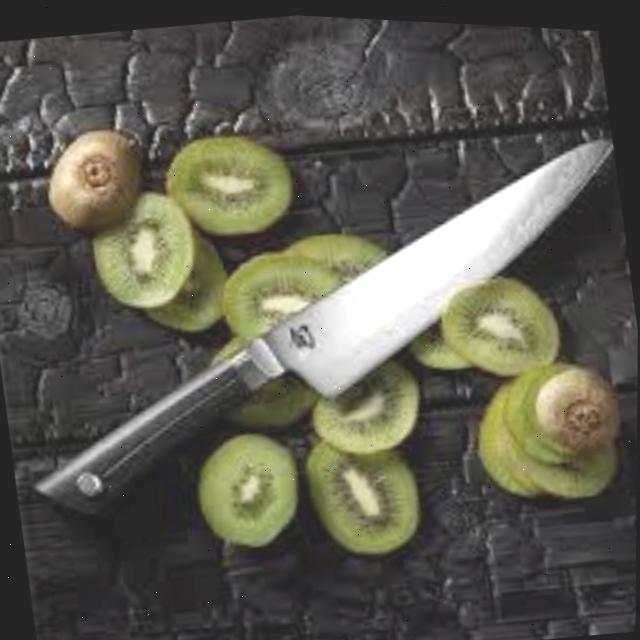knife: (0, 101, 639, 542)
